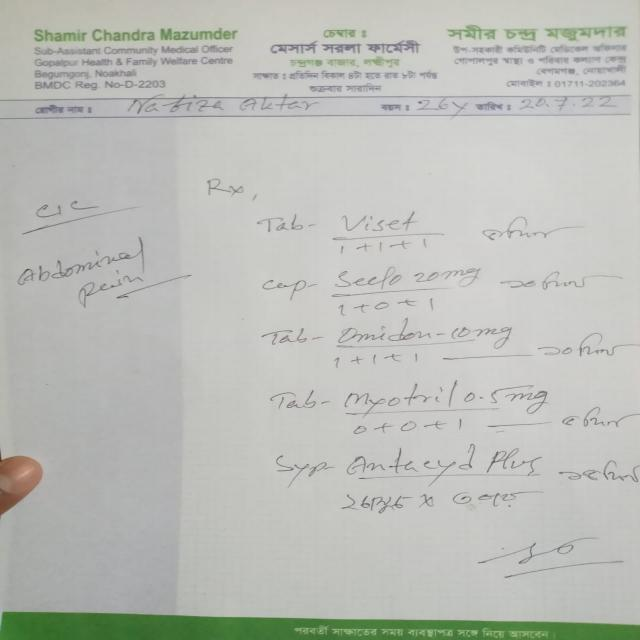Antacid Plus: (333, 443, 545, 485)
Myotril: (336, 380, 460, 415)
Omidon: (329, 321, 437, 351)
Seclo: (324, 263, 409, 296)
Viset: (334, 208, 422, 238)
